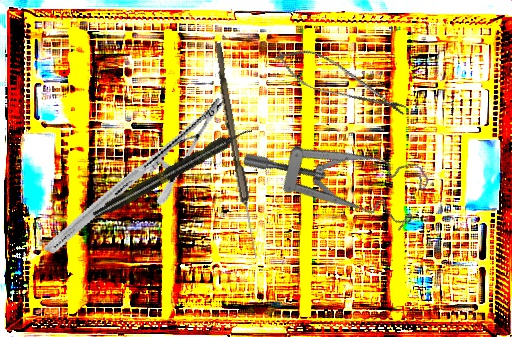Handpiece: (90, 122, 255, 223)
Micro Scissor: (269, 38, 413, 126)
Needle Holder: (43, 59, 227, 292)
Speculum: (239, 80, 441, 263)
Surgical Spoon: (209, 42, 263, 259)
